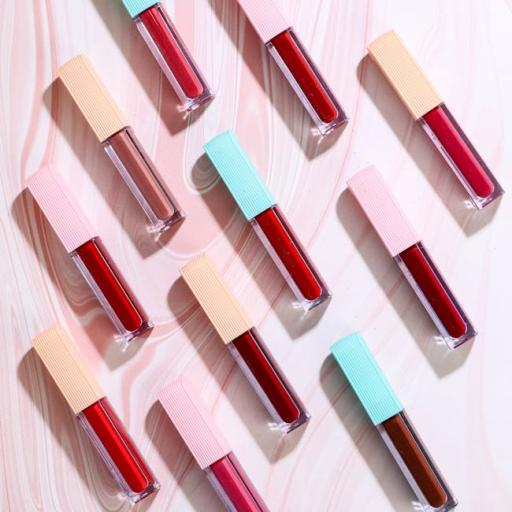lipstick: (368, 30, 504, 208), (181, 254, 310, 434), (348, 167, 476, 348), (32, 325, 159, 503), (205, 131, 330, 311), (58, 55, 185, 232), (331, 333, 457, 511), (26, 166, 152, 342), (159, 378, 267, 511)
